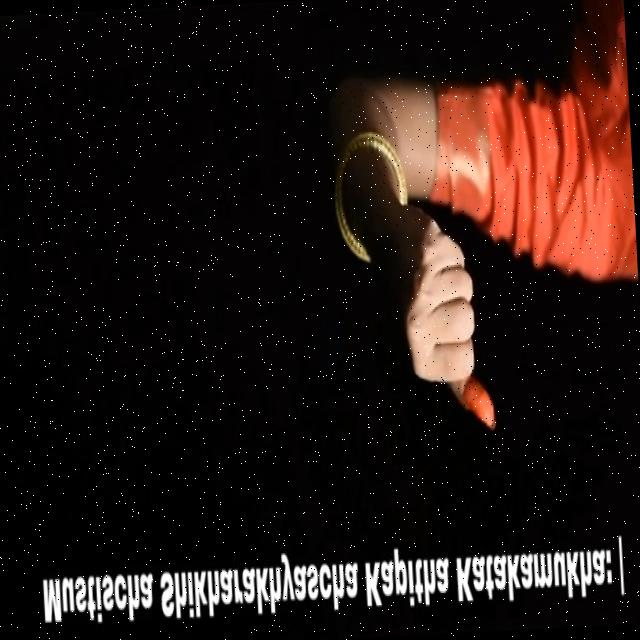Shikhara: (384, 192, 514, 458)
bangle: (325, 123, 410, 228)
text: (34, 526, 634, 637)
